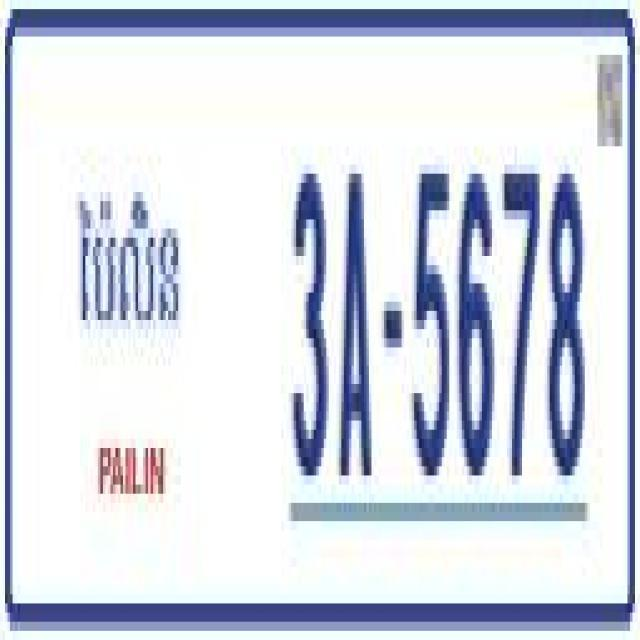Pailin: (73, 183, 182, 360)
